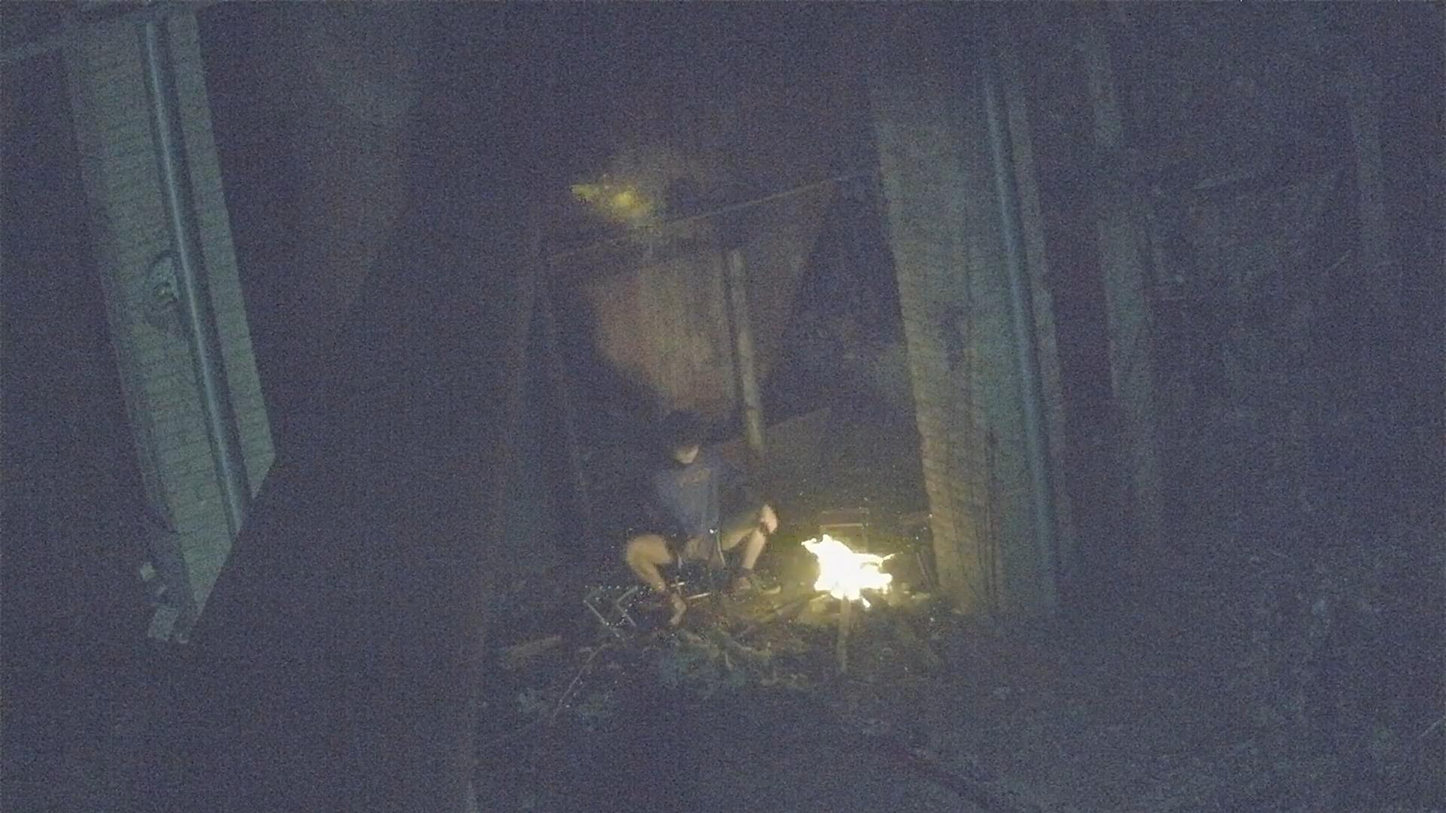fire: (804, 534, 891, 606)
